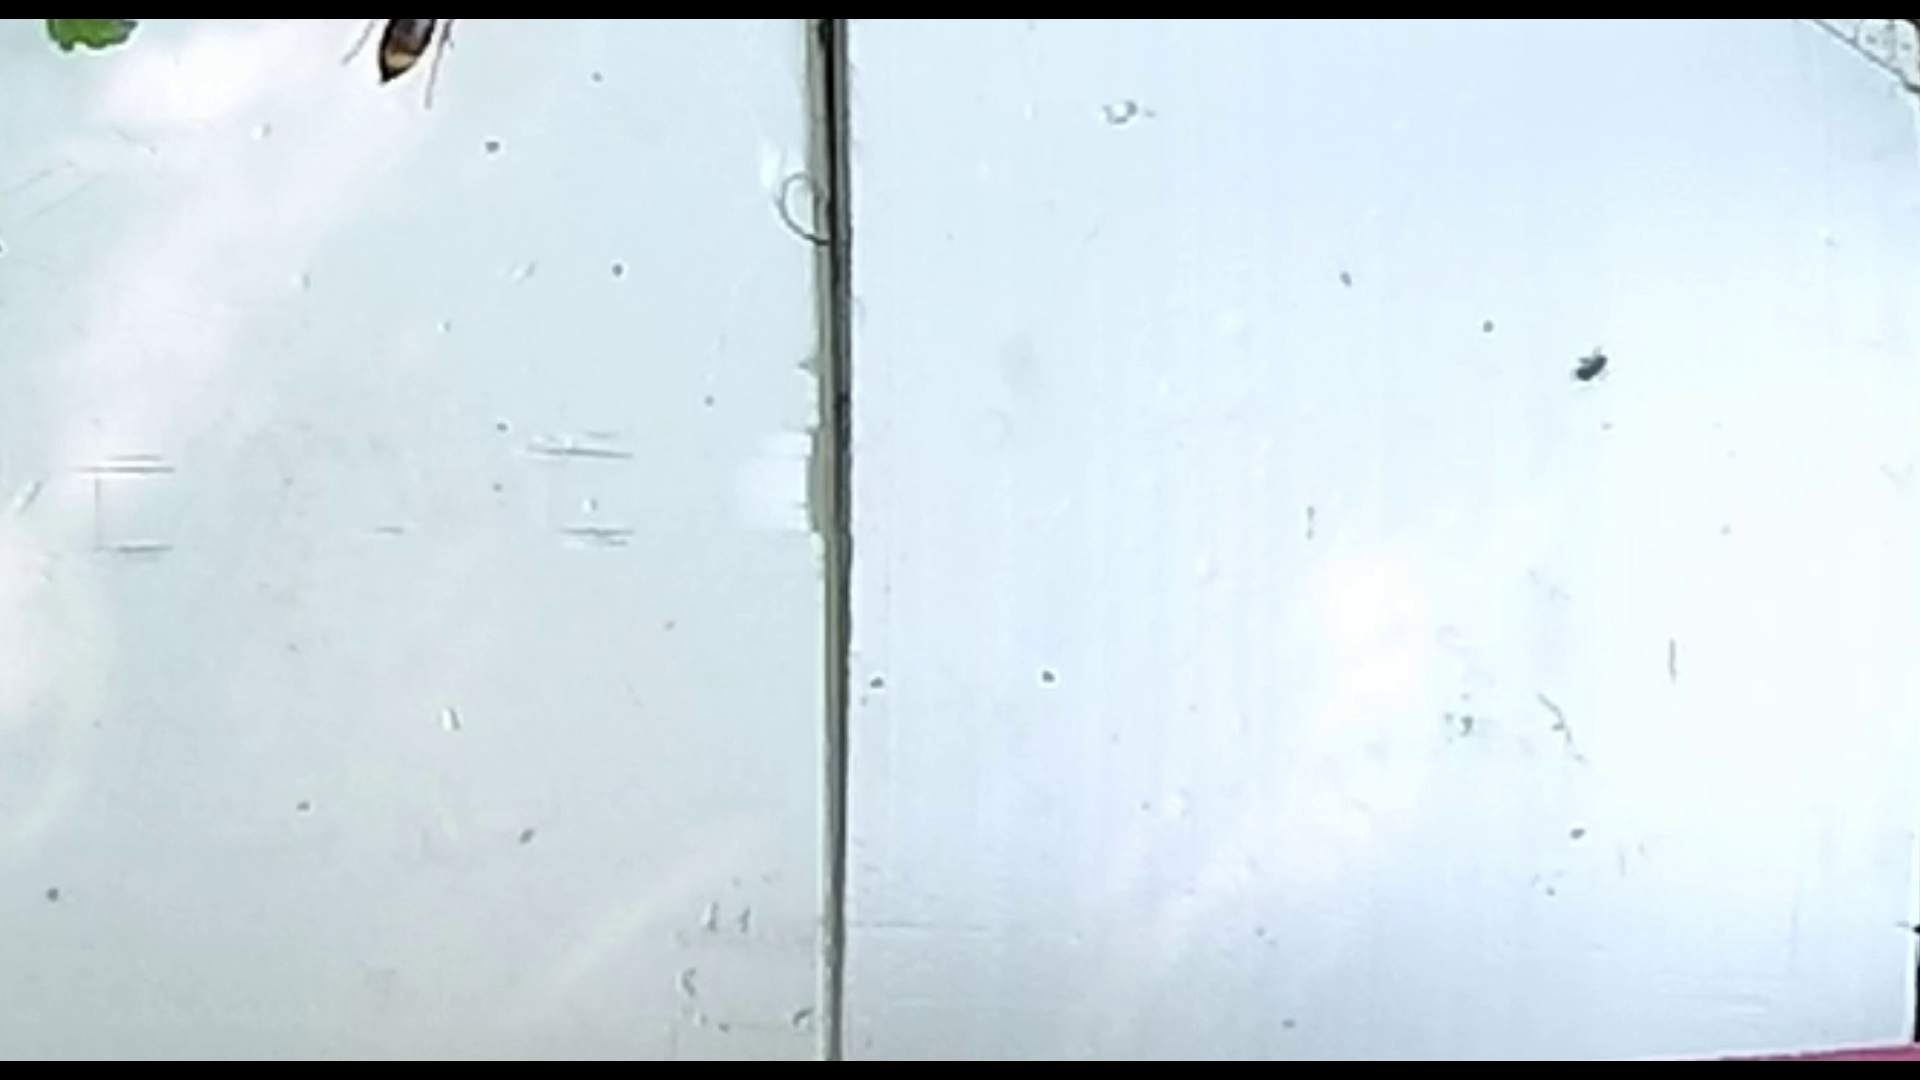Asian_hornets: (336, 20, 458, 115)
